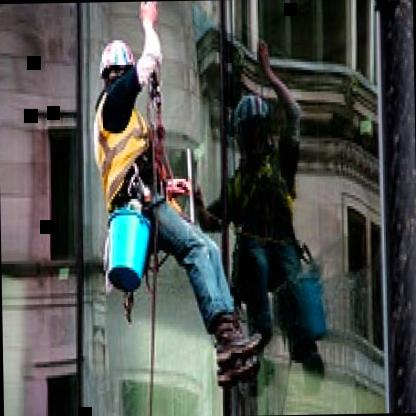helmet: (98, 40, 132, 95)
